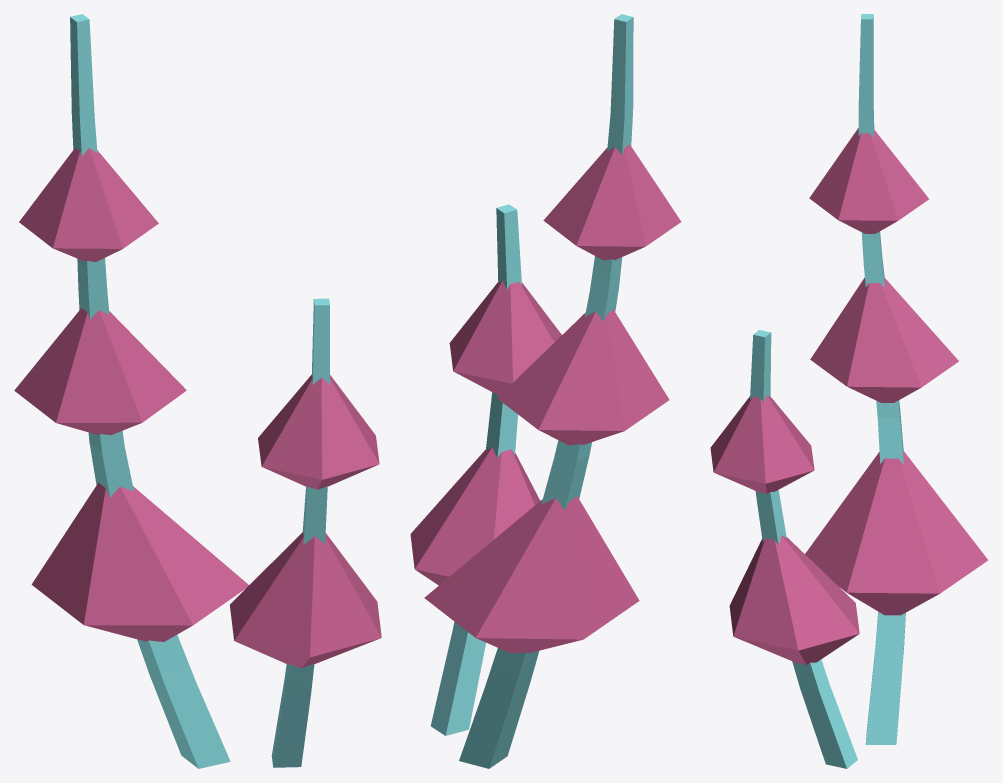
File: scifi_scifi-plant-baggy-medium.fbx
3 renders of one model, left to right at view 1: azimuth 30°, elevation 25°; view 2: azimuth 150°, elevation 25°; view 3: azimuth 270°, elevation 25°, orthographic. The views are drawn at different scales.
Parts seen in each view (by area): view 1: scifi_scifi_plant_baggy_medium; view 2: scifi_scifi_plant_baggy_medium; view 3: scifi_scifi_plant_baggy_medium.
Part boxes in pixels (<box>): scifi_scifi_plant_baggy_medium: <box>14,14,381,768</box>; scifi_scifi_plant_baggy_medium: <box>410,14,681,768</box>; scifi_scifi_plant_baggy_medium: <box>710,14,988,768</box>.
Size of the model in its own units: 80.57 by 200 by 75.7.
